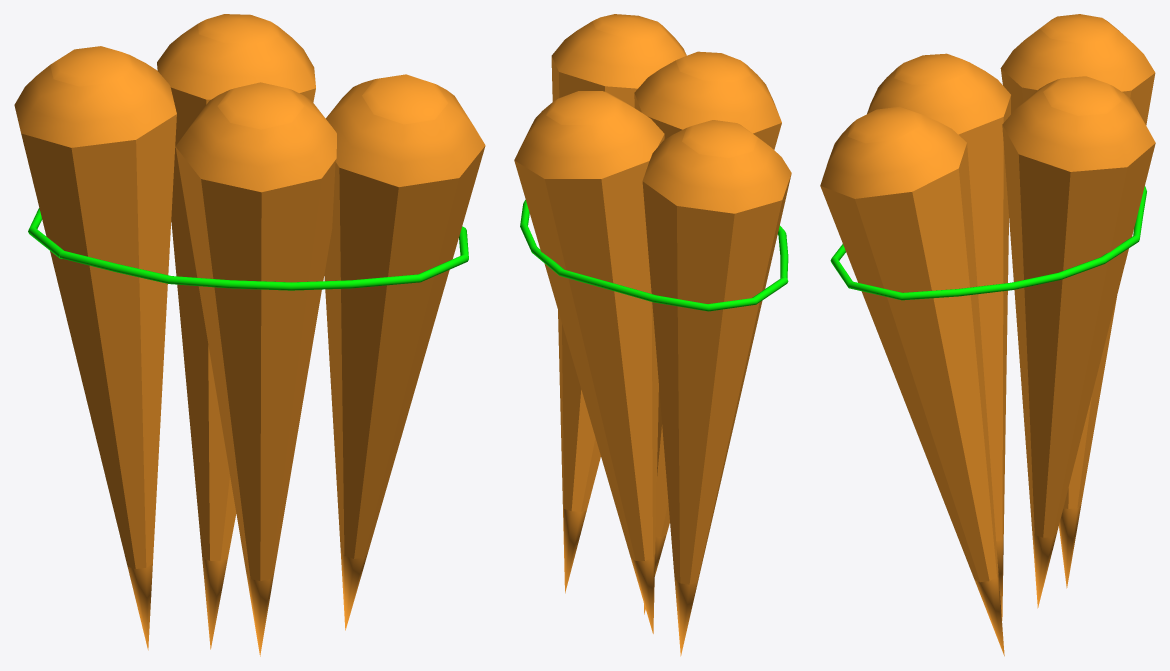
Rendered from Carrots.fbx.
3 renders of one model, left to right at view 1: azimuth 30°, elevation 25°; view 2: azimuth 150°, elevation 25°; view 3: azimuth 270°, elevation 25°, orthographic. The views are drawn at different scales.
Parts seen in each view (by area): view 1: Carrot, Carrot2, Carrot3, Carrot1, Band; view 2: Carrot, Carrot1, Carrot3, Carrot2, Band; view 3: Carrot3, Carrot1, Carrot2, Carrot, Band.
Boxes of the visible parts, x1,y1,x2,y2 form: Carrot: (14, 46, 176, 650); Carrot2: (175, 82, 336, 656); Carrot3: (324, 74, 485, 630); Carrot1: (157, 14, 315, 649); Band: (28, 208, 468, 290); Carrot: (642, 120, 791, 656); Carrot1: (514, 91, 664, 633); Carrot3: (551, 14, 686, 593); Carrot2: (634, 51, 781, 614); Band: (520, 200, 788, 311); Carrot3: (820, 106, 1004, 656); Carrot1: (1002, 76, 1155, 608); Carrot2: (867, 53, 1011, 620); Carrot: (1000, 14, 1155, 588); Band: (830, 186, 1146, 300).
Size of the model in its own units: 33.38 by 55.04 by 30.62.
